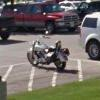Motorcycle: (20, 34, 70, 73)
